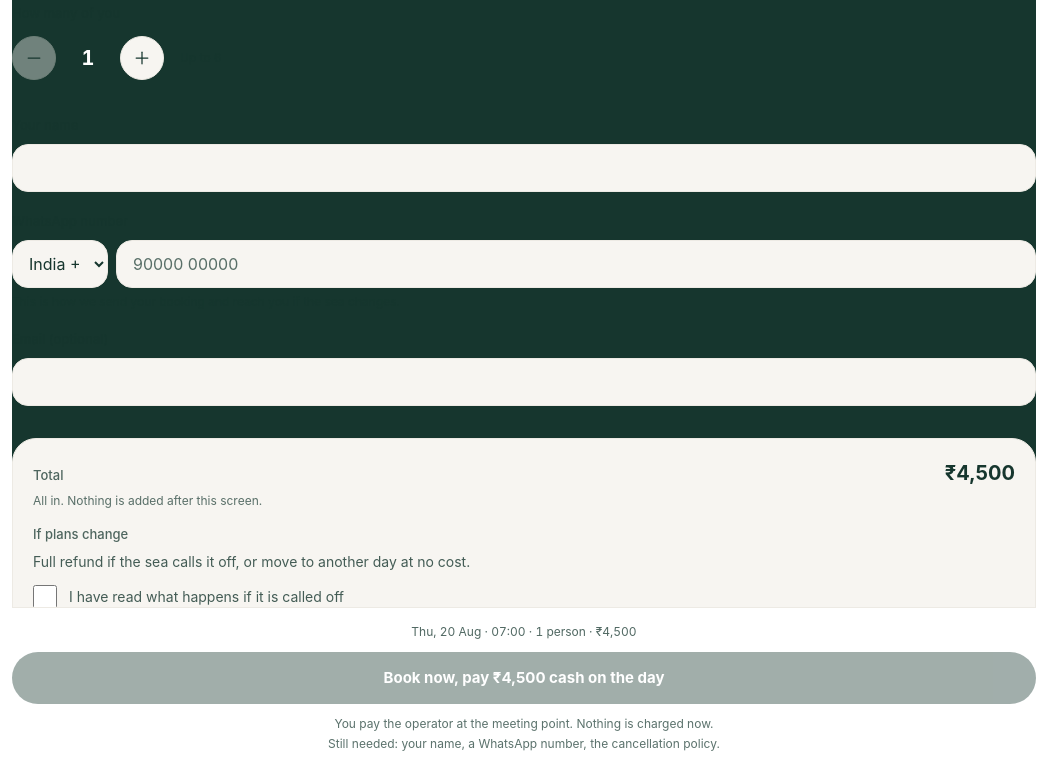
Test case: CheckoutForm — the money rules › renders the acceptance checkbox whenever the form itself renders
Check: the checkbox labelled "I have read what happens if it is called off" is shown, box left=33, top=585, right=57, bottom=609
Check: the list item "Full refund if the sea calls i" is shown, box left=33, top=553, right=470, bottom=570
In the field labelled "Your name": (524, 168) left=12, top=144, right=1036, bottom=192, type "Asha Menon"
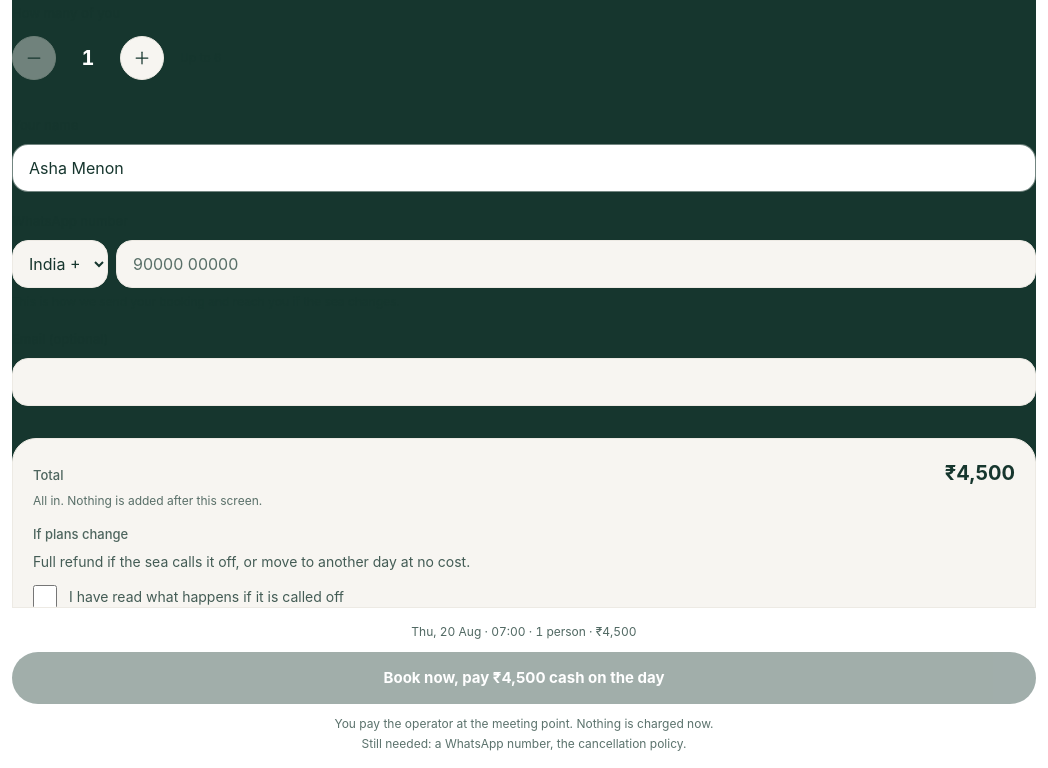
In the field labelled "WhatsApp number": (576, 264) left=116, top=240, right=1036, bottom=288, type "+919000000000"
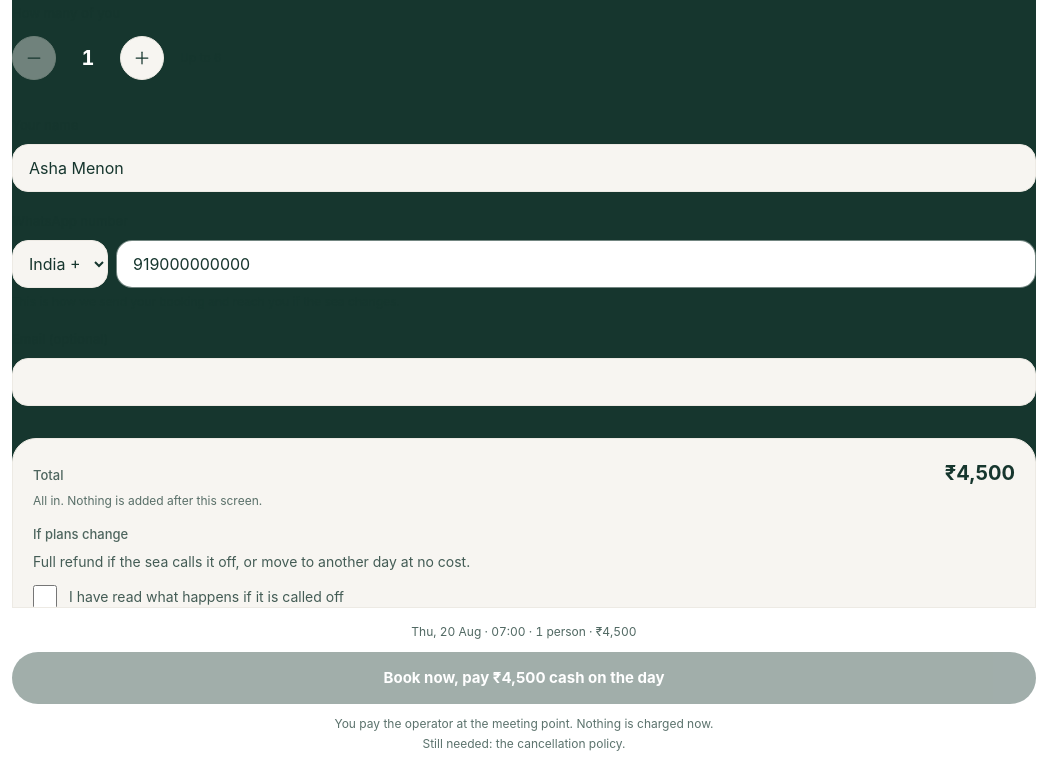
Check: the button "Book now, pay ₹4,500 cash on the day" is disabled, box left=12, top=652, right=1036, bottom=704
Click the checkbox labelled "I have read what happens if it is called off": (45, 597) left=33, top=585, right=57, bottom=609
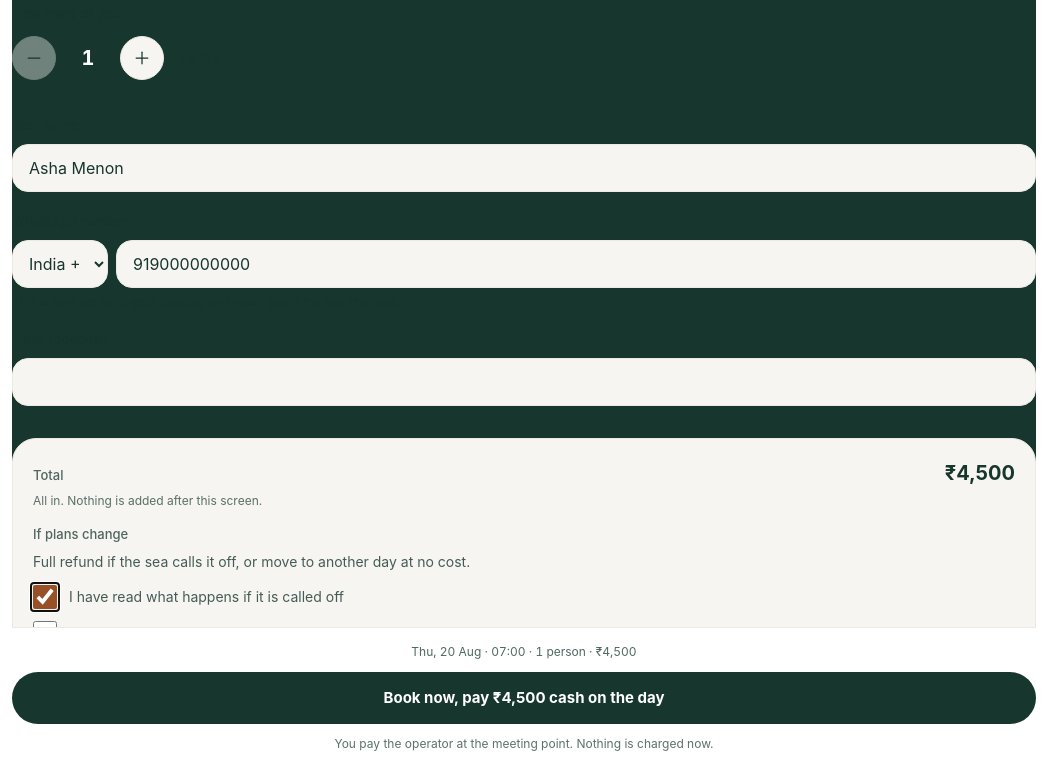
Check: the button "Book now, pay ₹4,500 cash on the day" is enabled, box left=12, top=672, right=1036, bottom=724
